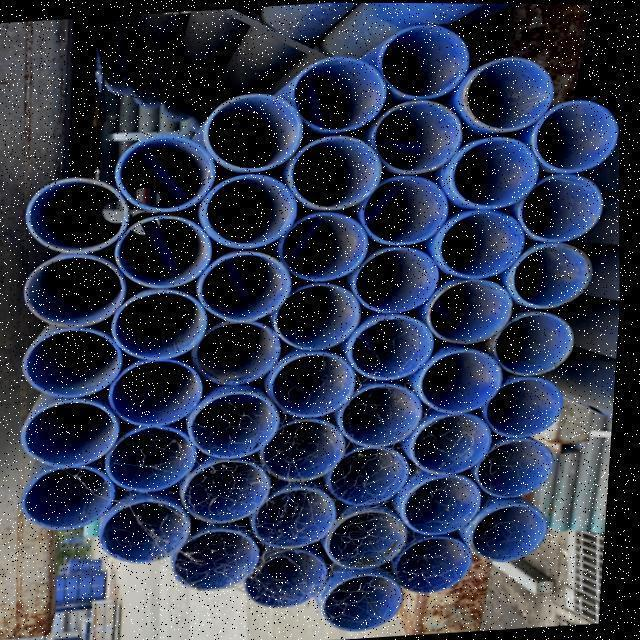pipe: (28, 247, 130, 331), (32, 175, 136, 256), (118, 130, 220, 212), (294, 49, 389, 135), (206, 93, 306, 174), (28, 328, 129, 402), (33, 457, 127, 536), (295, 135, 388, 213), (118, 289, 218, 360), (117, 354, 214, 427), (31, 400, 133, 469), (381, 23, 474, 98), (207, 174, 299, 249), (122, 216, 219, 287), (369, 173, 456, 252), (199, 385, 290, 460), (376, 101, 466, 175), (201, 249, 294, 320), (454, 138, 544, 210), (266, 411, 359, 480), (109, 498, 203, 566), (468, 56, 555, 129), (535, 99, 621, 172), (285, 211, 372, 283), (280, 282, 368, 352), (354, 308, 440, 379), (199, 317, 289, 384), (191, 457, 282, 523), (279, 350, 363, 421), (359, 248, 449, 314), (444, 207, 528, 277), (117, 425, 205, 491), (433, 277, 519, 344), (181, 529, 271, 593), (527, 172, 608, 242), (425, 347, 512, 412), (516, 240, 597, 308), (414, 409, 499, 473), (502, 309, 581, 377), (348, 383, 430, 447), (334, 506, 418, 568), (262, 485, 347, 546), (407, 473, 489, 536), (484, 435, 564, 498), (338, 444, 420, 505), (488, 374, 570, 435), (330, 570, 417, 627), (254, 547, 337, 606), (403, 533, 486, 590), (482, 502, 560, 562)
